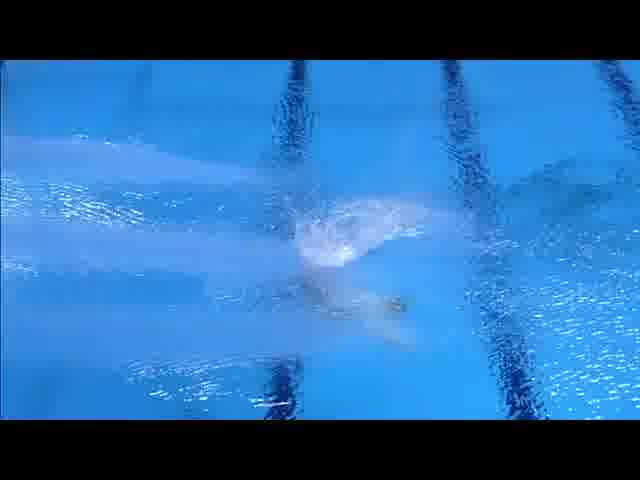core: (316, 224, 355, 257)
periphery: (268, 183, 428, 267)
